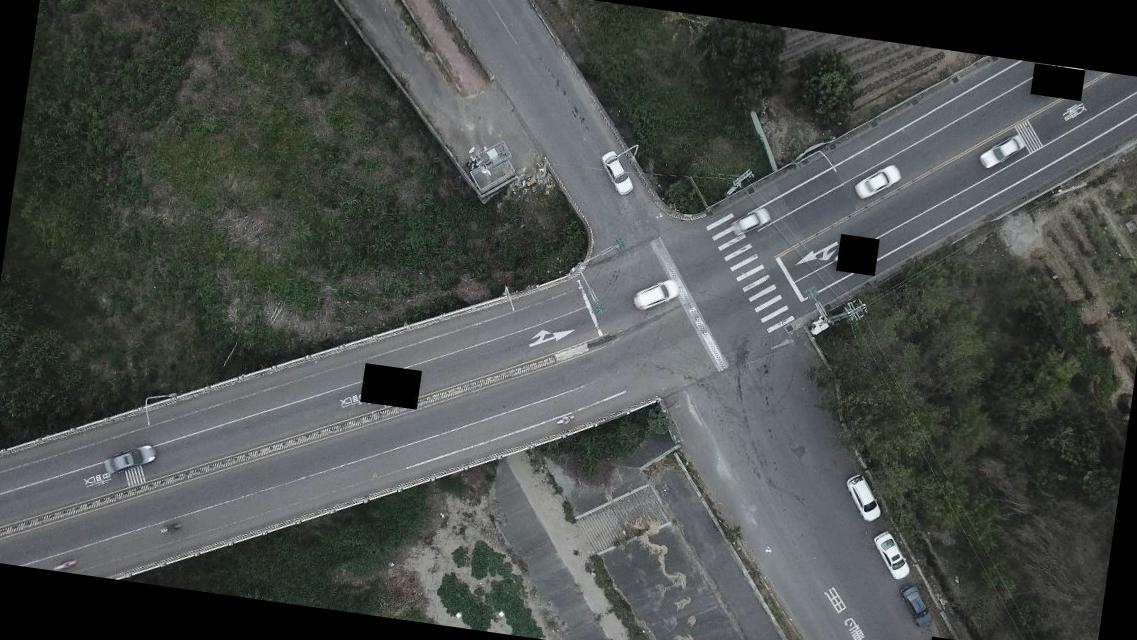vehicle: (101, 436, 161, 480), (853, 157, 904, 207), (868, 532, 916, 580), (842, 474, 886, 526), (978, 130, 1027, 176), (594, 148, 639, 198), (727, 200, 776, 242), (632, 274, 679, 316), (896, 585, 938, 631)
